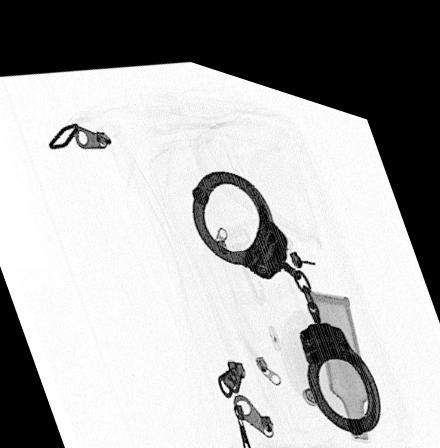HandCuffs: (190, 154, 382, 413)
